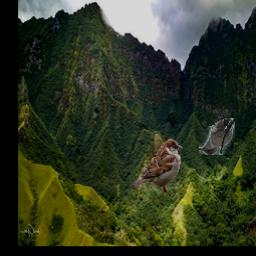Cuckoo: (199, 118, 235, 155)
Sparrow: (131, 140, 183, 194)
